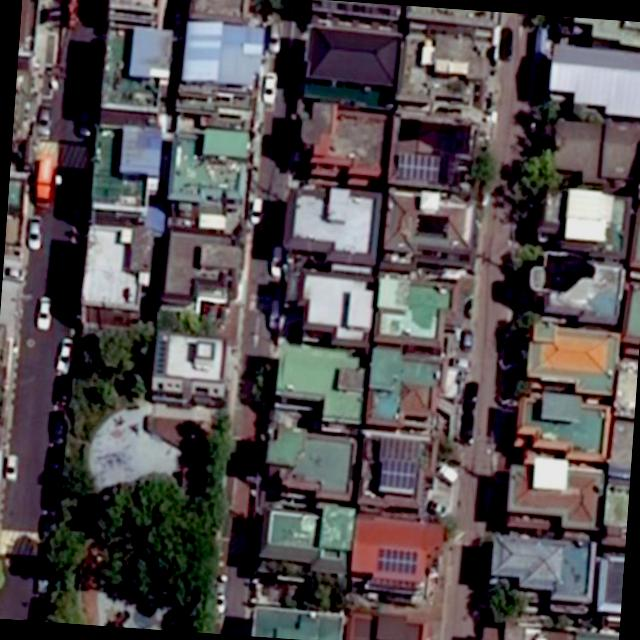solar: (394, 151, 440, 183), (378, 456, 418, 492), (374, 546, 419, 576)
